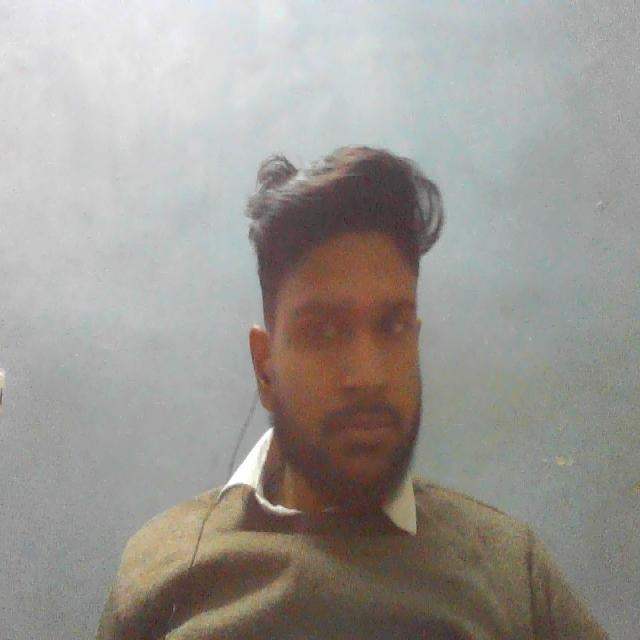real: (251, 148, 441, 508)
